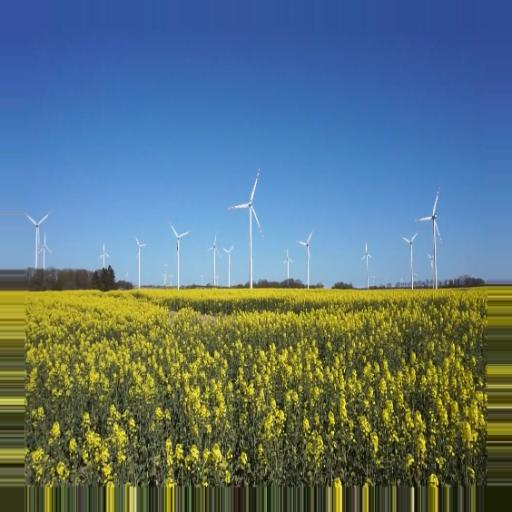wind turbine: (227, 164, 268, 288), (414, 189, 444, 285), (168, 221, 191, 288), (25, 214, 49, 268), (297, 228, 315, 287), (132, 235, 148, 284), (360, 239, 375, 284)
